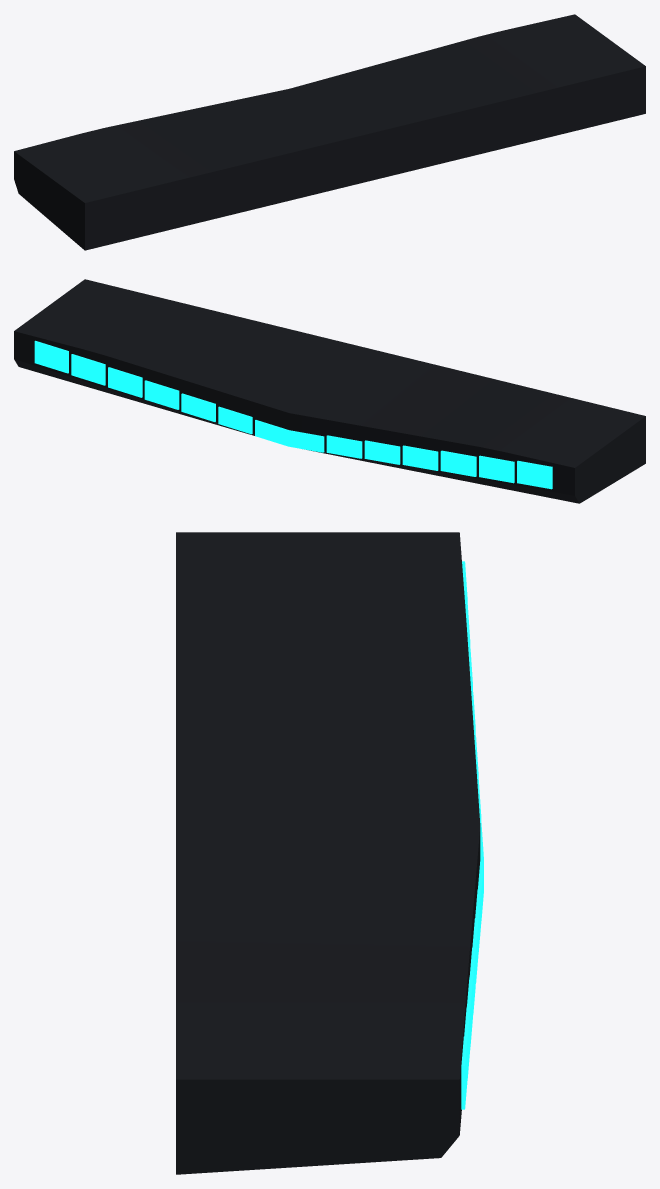
The model's file is visor_v_step.glb.
The picture shows the model from 3 angles, top to bottom: view 1: azimuth 30°, elevation 25°; view 2: azimuth 150°, elevation 25°; view 3: azimuth 270°, elevation 25°; orthographic projection. The views are drawn at different scales.
Visible parts, largest first — view 1: visor_v_step_deco_body; view 2: visor_v_step_deco_body, visor_v_step_deco_neon; view 3: visor_v_step_deco_body, visor_v_step_deco_neon.
Part boxes in pixels (x1,y1,x2,y2): visor_v_step_deco_body: (14,14,645,250); visor_v_step_deco_body: (14,279,645,503); visor_v_step_deco_neon: (34,340,552,489); visor_v_step_deco_body: (176,532,480,1174); visor_v_step_deco_neon: (461,561,483,1109).
Bounding box in the file's own units: 2.1 × 0.17 × 0.4993.
